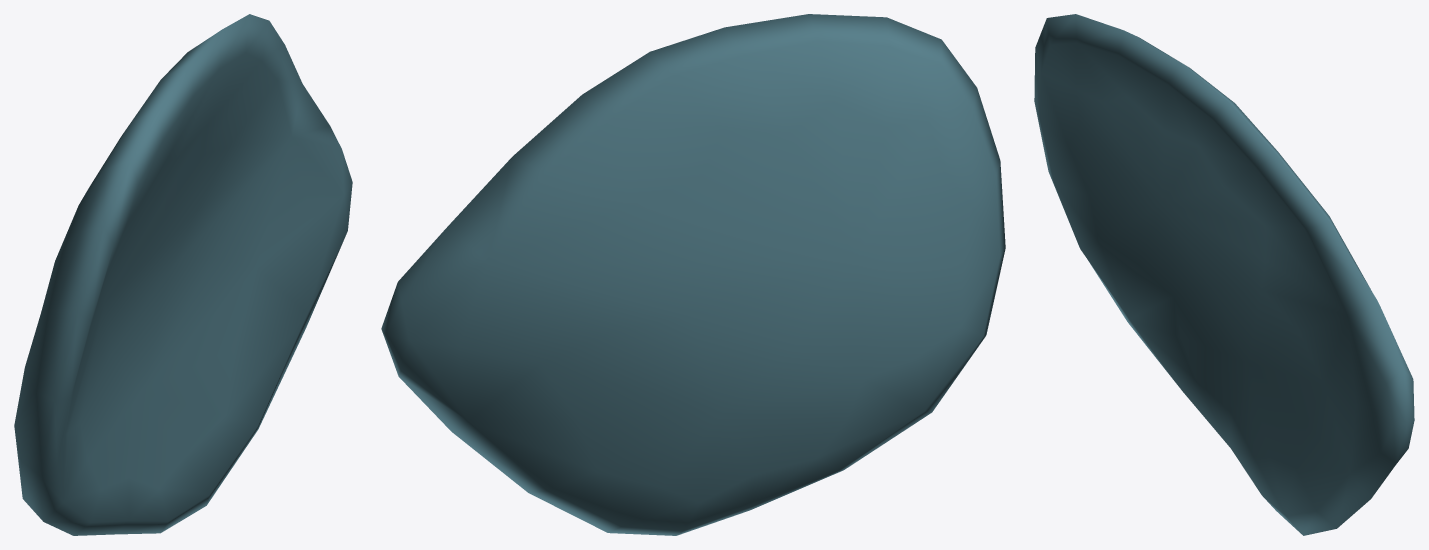
File: Extensor_radialis_longus-Insertion.r_Generated_Mesh_From_X3D.56.glb
3 renders of one model, left to right at view 1: azimuth 30°, elevation 25°; view 2: azimuth 150°, elevation 25°; view 3: azimuth 270°, elevation 25°, orthographic. The views are drawn at different scales.
Visible parts, largest first — view 1: Extensor_radialis_longus-Insertion.r_Generated_Mesh_From_X3D; view 2: Extensor_radialis_longus-Insertion.r_Generated_Mesh_From_X3D; view 3: Extensor_radialis_longus-Insertion.r_Generated_Mesh_From_X3D.
Boxes of the visible parts, <box> form: Extensor_radialis_longus-Insertion.r_Generated_Mesh_From_X3D: <box>14,14,352,535</box>; Extensor_radialis_longus-Insertion.r_Generated_Mesh_From_X3D: <box>381,14,1005,535</box>; Extensor_radialis_longus-Insertion.r_Generated_Mesh_From_X3D: <box>1034,14,1414,535</box>.
Bounding box in the file's own units: 0.00535 × 0.00549 × 0.00415.
